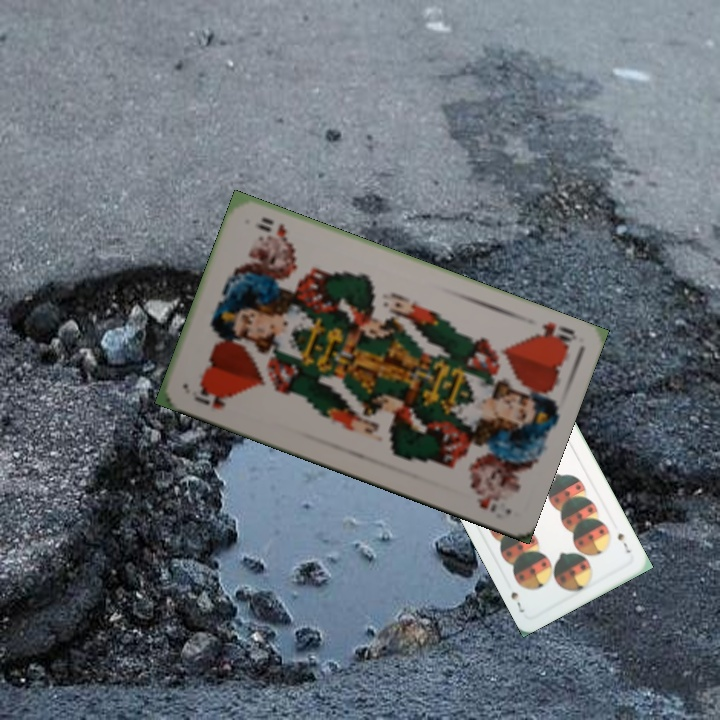HO: (526, 317, 579, 351), (187, 382, 228, 412)
S7: (613, 528, 634, 556)
